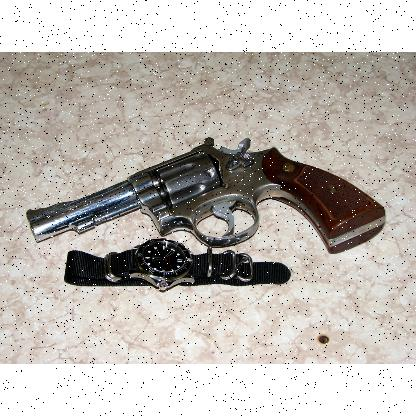gun: (26, 136, 387, 254)
